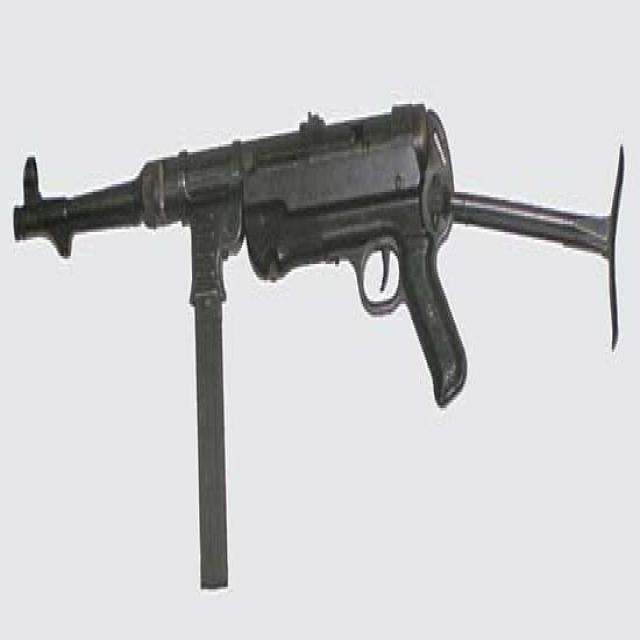smg: (11, 92, 624, 594)
